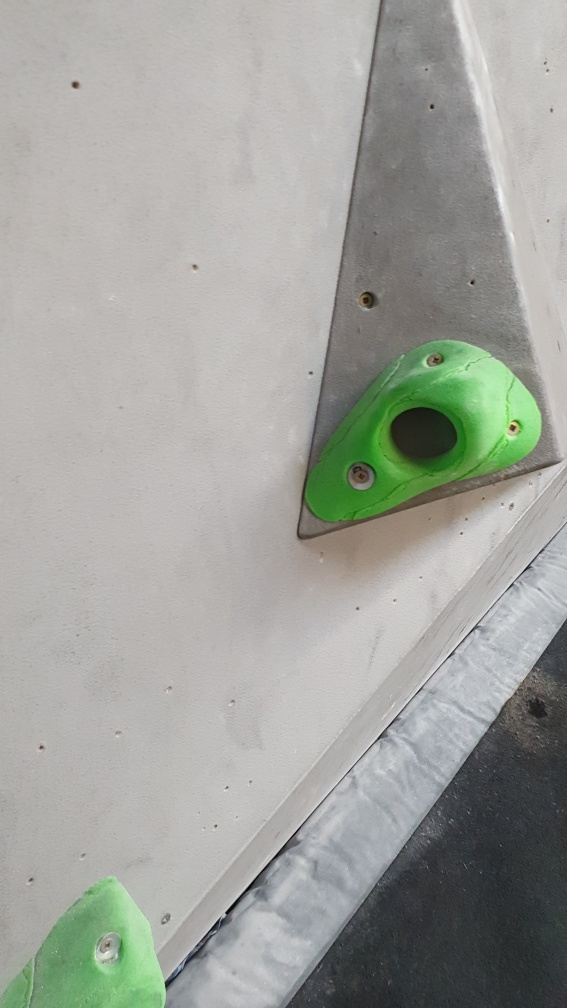Pocket: (299, 333, 546, 524)
